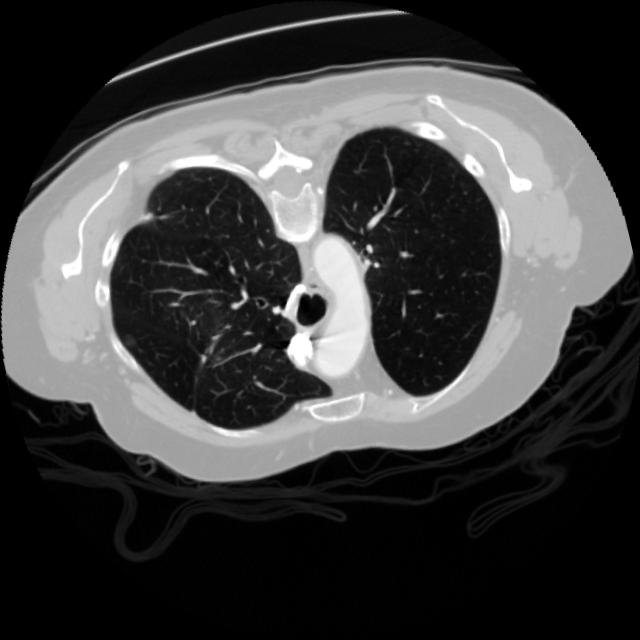nodule: (110, 324, 146, 359)
